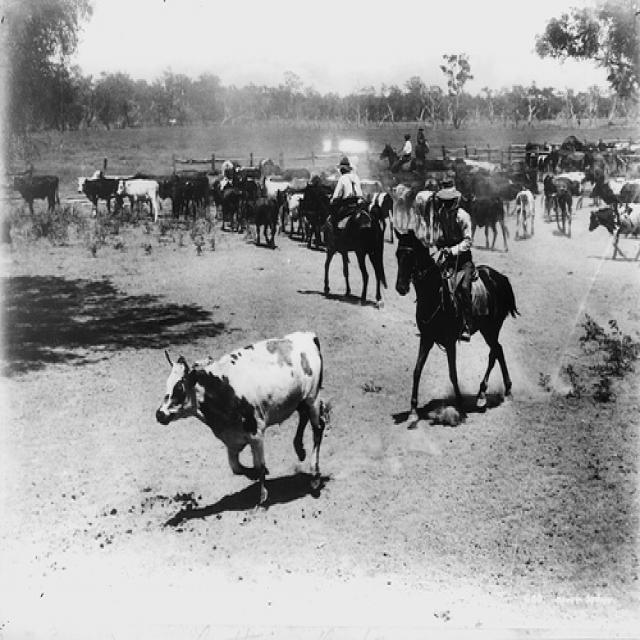cow: (150, 327, 332, 518), (586, 201, 639, 258), (460, 195, 508, 250), (73, 167, 118, 215), (9, 170, 60, 212), (105, 164, 147, 207), (551, 174, 579, 234), (364, 189, 392, 239), (251, 196, 279, 246), (508, 186, 534, 237), (537, 150, 555, 179)
